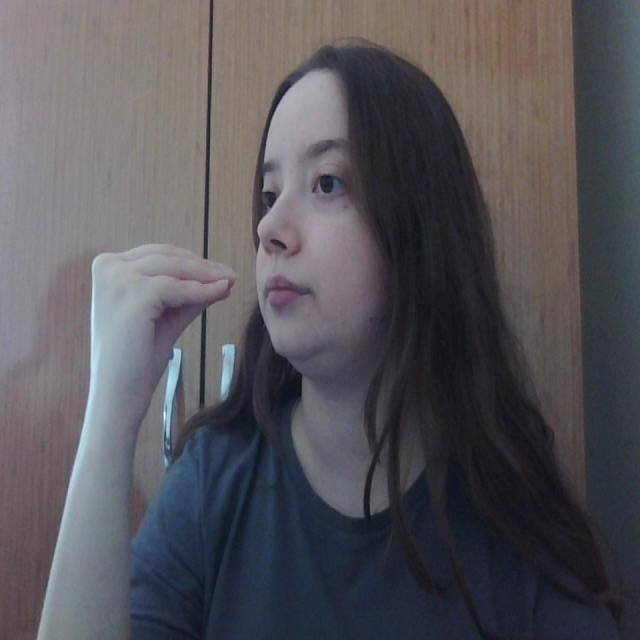Yemek: (84, 243, 302, 332)
